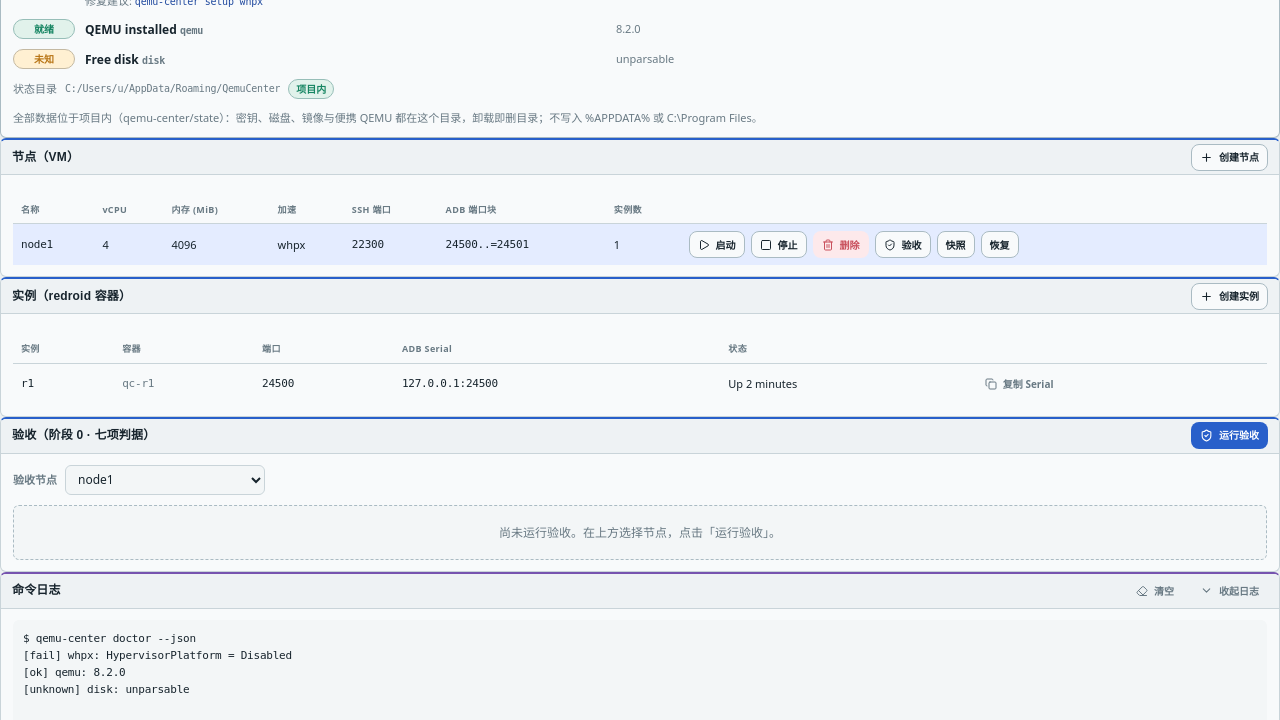
QemuCenterPage › shows a failed VM launch in the status line
(page scrolled)
Click the button "启动". click: coordinates (716, 245)
box: x1=688 y1=232 x2=744 y2=258
(page scrolled)
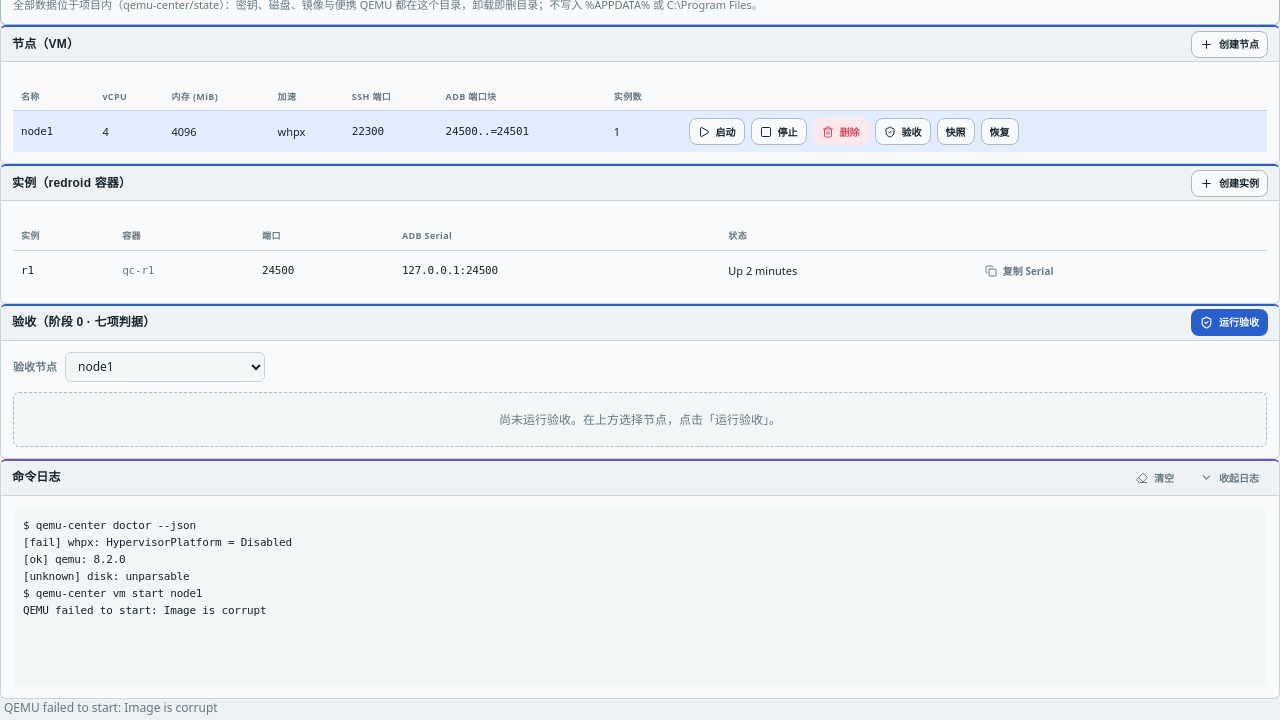
Expected: the text "QEMU failed to start: Image is corrupt" is shown, x1=4 y1=699 x2=218 y2=716
